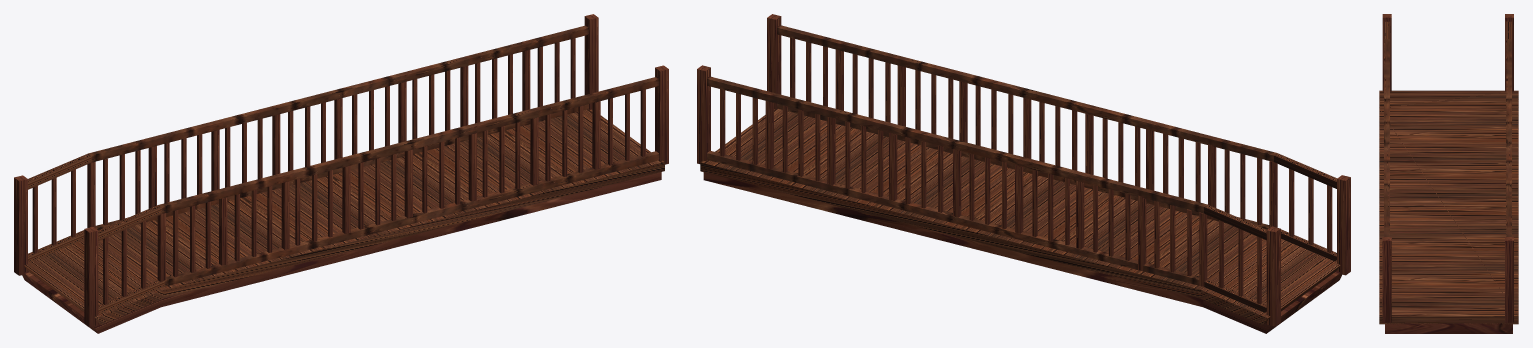
File: bridge1.fbx
3 renders of one model, left to right at view 1: azimuth 30°, elevation 25°; view 2: azimuth 150°, elevation 25°; view 3: azimuth 270°, elevation 25°, orthographic. The views are drawn at different scales.
Visible parts, largest first — view 1: bridgeSurface, bridgeHandle (×2), bridgeHandle2 (×2), bridgeBottom, bridgeColumnEnd (×2), bridgeColumnEnd1 (×2), bridgeColumnHandleMain (×2), bridgeColumnHandleMain1 (×2), bridgeColumnHandleMain7 (×2), bridgeColumnHandleMain2 (×2), bridgeColumnHandleMain3 (×2), bridgeColumnHandleMain5 (×2) (+2 smaller); view 2: bridgeSurface, bridgeHandle (×2), bridgeHandle2 (×2), bridgeBottom, bridgeColumnEnd (×2), bridgeColumnEnd1 (×2), bridgeColumnHandleMain (×2), bridgeColumnHandleMain1 (×2), bridgeColumnHandleMain7 (×2), bridgeColumnHandleMain6 (×2), bridgeColumnHandleMain3 (×2), bridgeColumnHandleMain5 (×2) (+2 smaller); view 3: bridgeSurface, bridgeHandle (×2), bridgeColumnEnd1 (×2), bridgeBottom, bridgeColumnEnd (×2).
Part boxes in pixels (x1,y1,x2,y2): bridgeSurface: [24, 109, 664, 324]; bridgeHandle (×2): [28, 25, 659, 240]; bridgeHandle2 (×2): [28, 104, 659, 313]; bridgeBottom: [22, 172, 661, 333]; bridgeColumnEnd (×2): [14, 175, 98, 327]; bridgeColumnEnd1 (×2): [584, 14, 668, 164]; bridgeColumnHandleMain (×2): [87, 161, 165, 281]; bridgeColumnHandleMain1 (×2): [148, 146, 227, 265]; bridgeColumnHandleMain7 (×2): [522, 50, 600, 176]; bridgeColumnHandleMain2 (×2): [211, 129, 289, 249]; bridgeColumnHandleMain3 (×2): [272, 114, 350, 233]; bridgeColumnHandleMain5 (×2): [398, 81, 476, 201]; bridgeSurface: [700, 109, 1340, 324]; bridgeHandle (×2): [707, 25, 1336, 240]; bridgeHandle2 (×2): [707, 103, 1336, 312]; bridgeBottom: [703, 172, 1341, 333]; bridgeColumnEnd (×2): [1266, 175, 1350, 326]; bridgeColumnEnd1 (×2): [697, 14, 781, 163]; bridgeColumnHandleMain (×2): [1199, 161, 1277, 286]; bridgeColumnHandleMain1 (×2): [1138, 144, 1216, 271]; bridgeColumnHandleMain7 (×2): [765, 49, 843, 176]; bridgeColumnHandleMain6 (×2): [827, 65, 905, 185]; bridgeColumnHandleMain3 (×2): [1015, 113, 1093, 233]; bridgeColumnHandleMain5 (×2): [889, 81, 967, 200]; bridgeSurface: [1379, 90, 1518, 324]; bridgeHandle (×2): [1384, 21, 1511, 236]; bridgeColumnEnd1 (×2): [1382, 237, 1513, 322]; bridgeBottom: [1385, 323, 1512, 333]; bridgeColumnEnd (×2): [1382, 14, 1513, 91].
Size of the model in its own units: 7.17 by 1.5 by 1.71.
2 materials, 2 textured.
